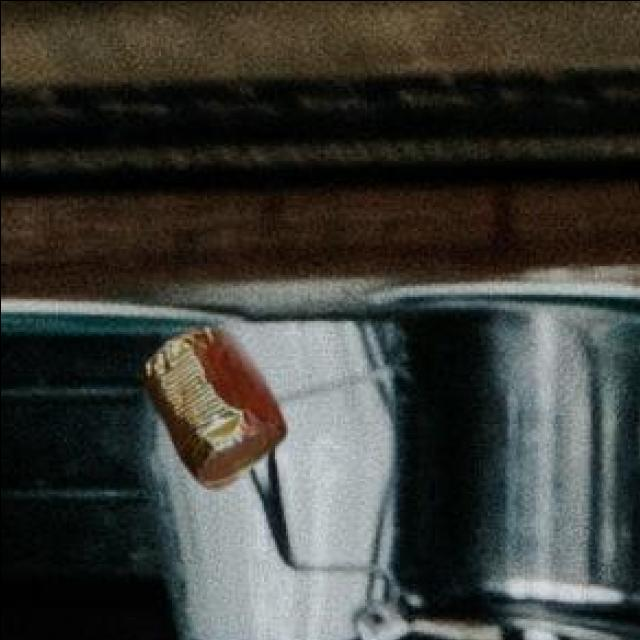logam: (146, 330, 288, 492)
